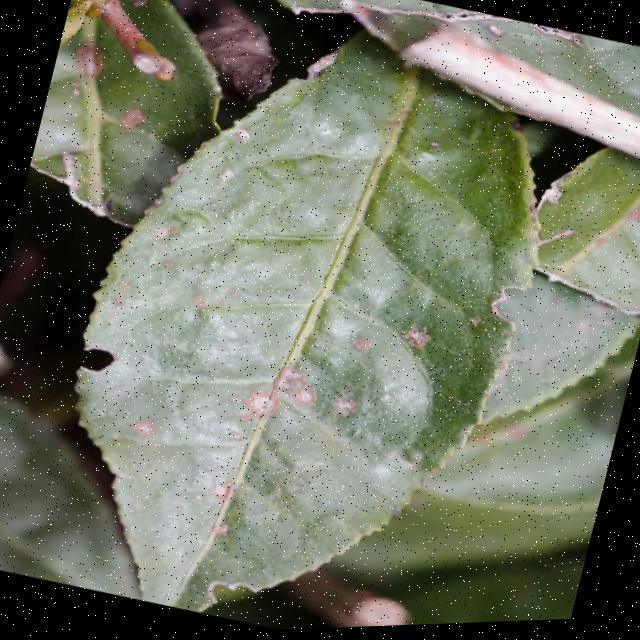Tea algae leaf spot: (89, 226, 465, 593)
